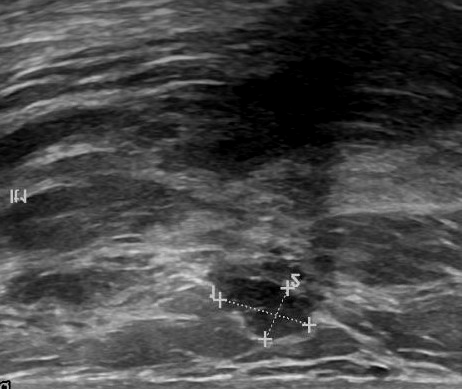Benign: (226, 273, 310, 341)
